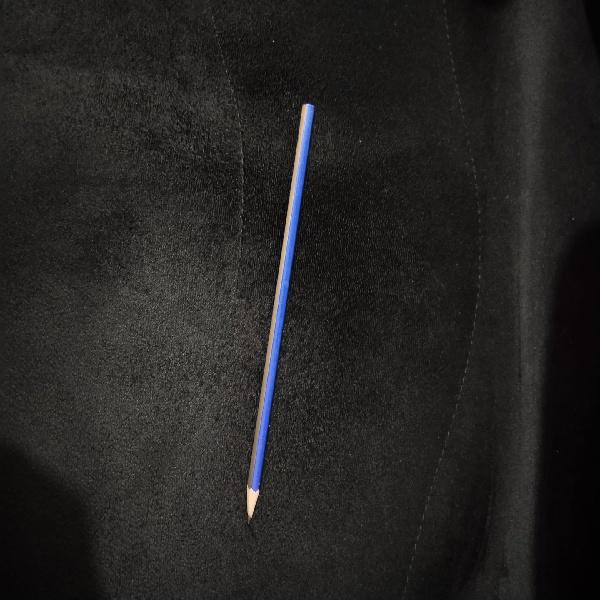pencil: (247, 104, 313, 521)
